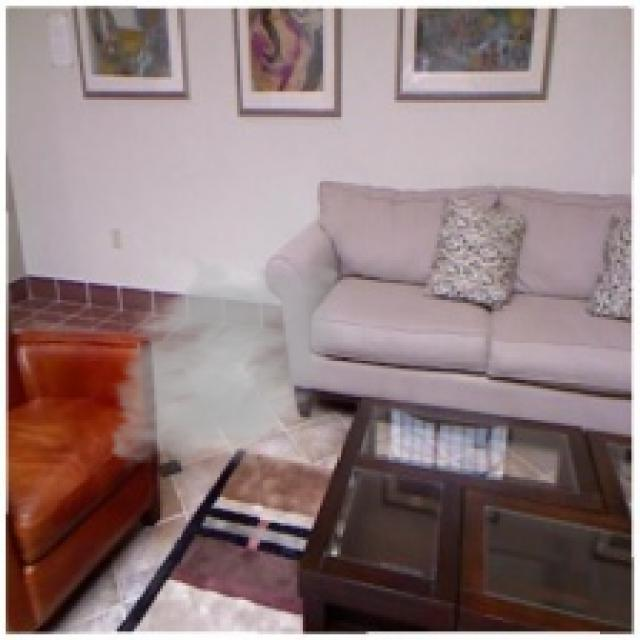smoke: (100, 240, 351, 480)
